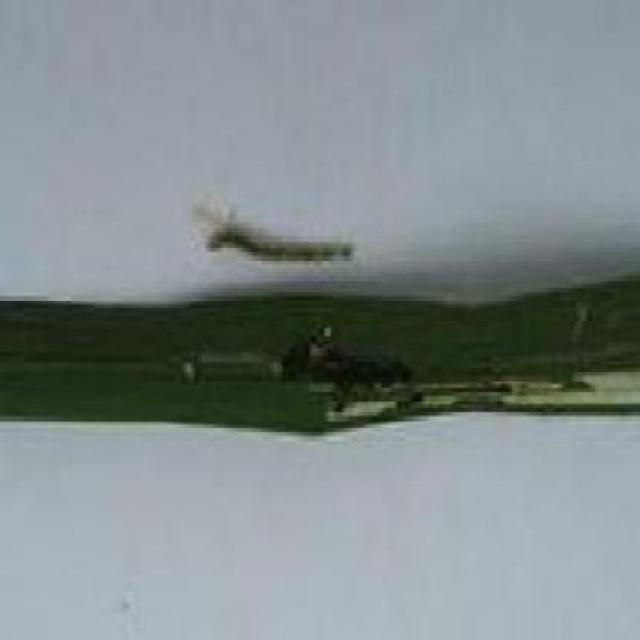leaf-folder: (178, 175, 376, 294)
